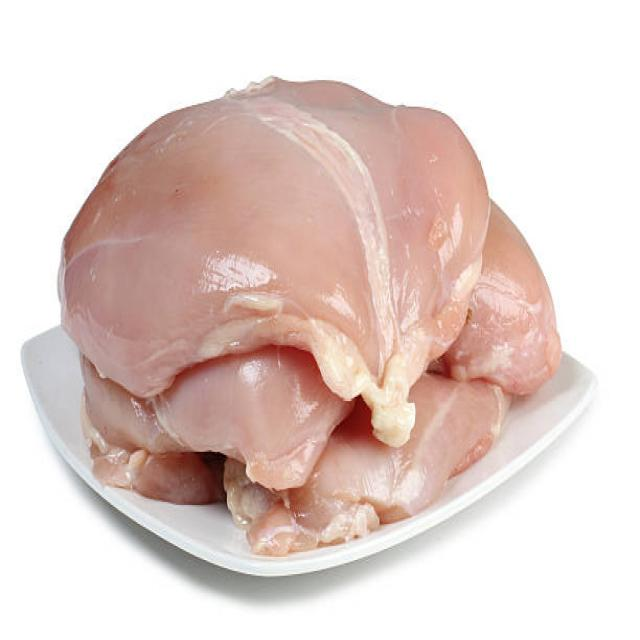Chicken: (84, 78, 505, 373)
